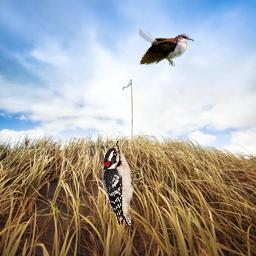Cuckoo: (139, 13, 194, 67)
Woodpecker: (102, 139, 142, 225)
